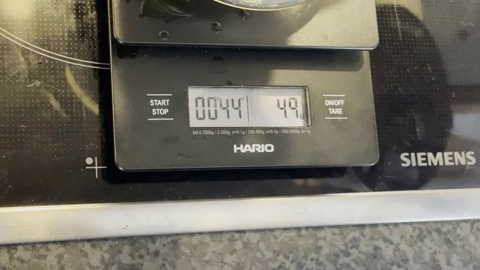display: (188, 85, 310, 125)
